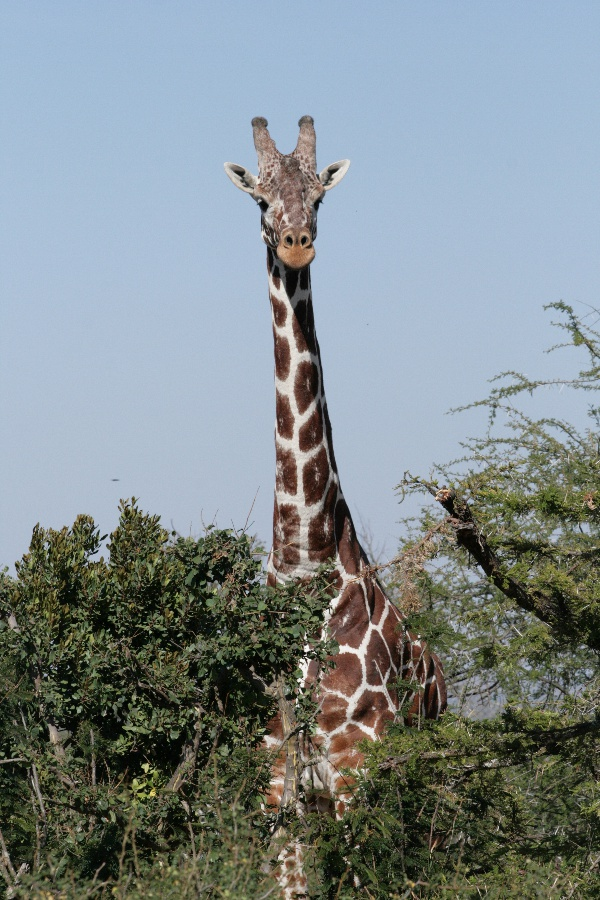giraffe: (205, 103, 495, 897)
